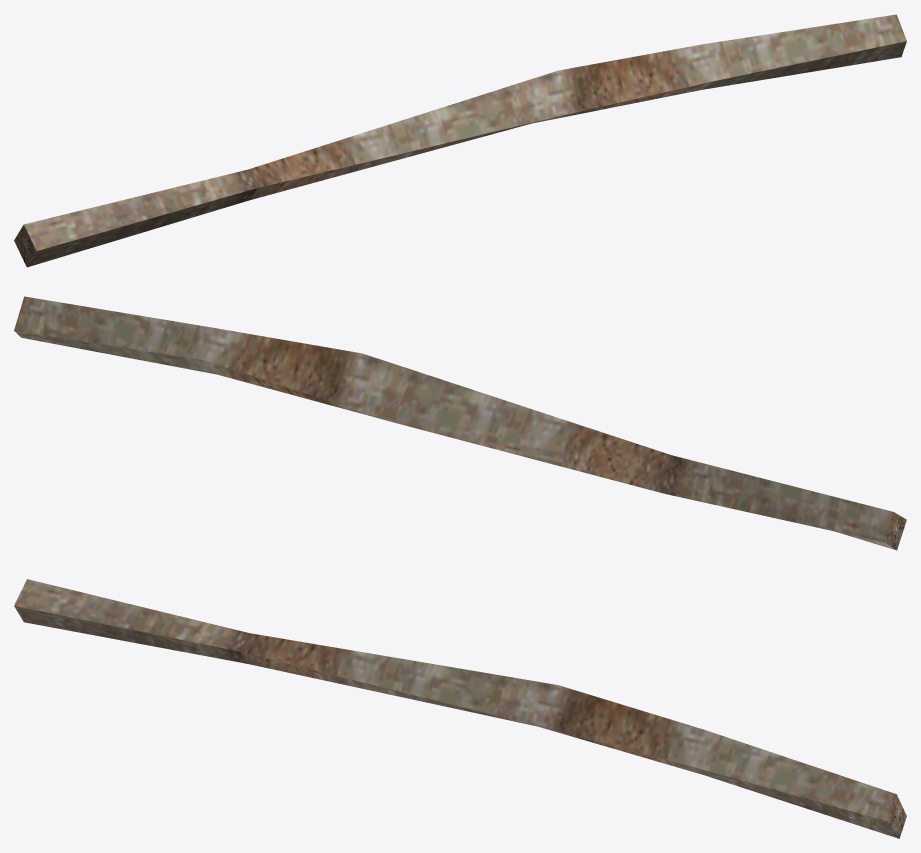
File: WoodRailFence_Beam_03_Model.fbx
3 renders of one model, top to bottom at view 1: azimuth 30°, elevation 25°; view 2: azimuth 150°, elevation 25°; view 3: azimuth 330°, elevation 25°, orthographic.
Parts seen in each view (by area): view 1: Body; view 2: Body; view 3: Body.
Part boxes in pixels (x1,y1,x2,y2): Body: [14, 14, 906, 267]; Body: [14, 296, 906, 550]; Body: [14, 579, 906, 838].
Size of the model in its own units: 202 by 15.19 by 13.12.
